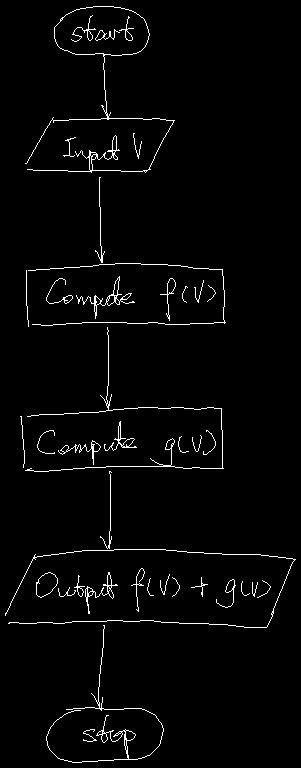arrow: (91, 625, 104, 710), (100, 327, 111, 409), (100, 471, 111, 548), (95, 177, 104, 262), (101, 54, 110, 119)
data: (5, 549, 295, 627), (25, 117, 174, 172)
process: (20, 407, 223, 471), (26, 263, 225, 326)
terminator: (46, 707, 163, 762), (54, 6, 149, 55)
text: (36, 568, 270, 613), (37, 421, 215, 465), (46, 276, 215, 320), (63, 133, 141, 172), (83, 715, 135, 759), (71, 15, 133, 41)
